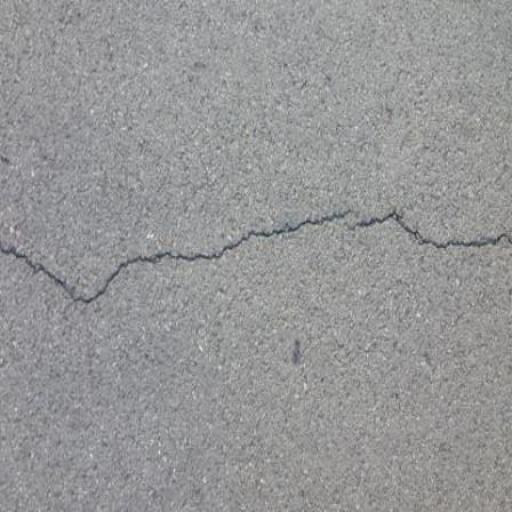spalling: (8, 186, 500, 324)
